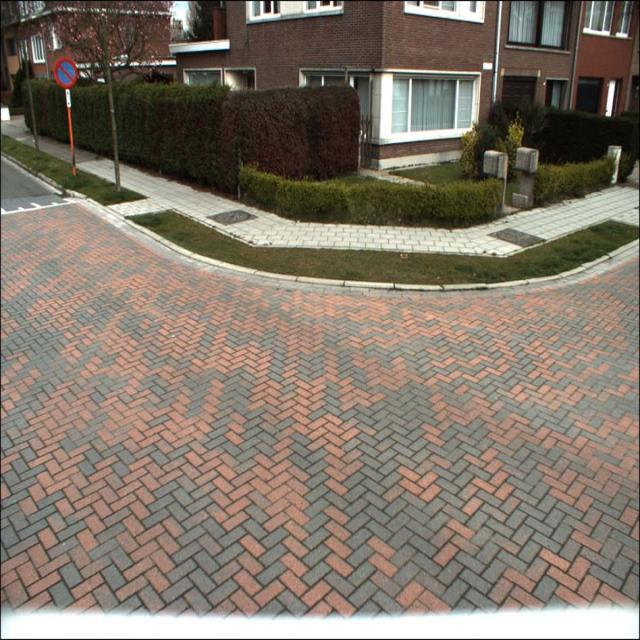parkyasak: (54, 58, 76, 88)
